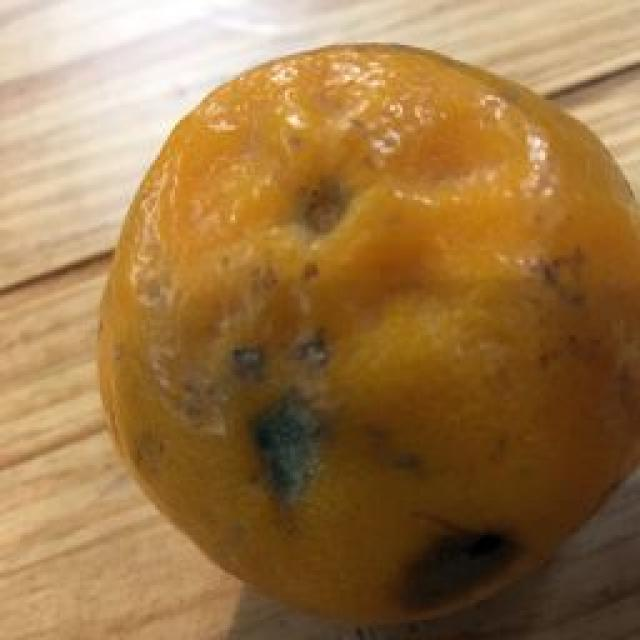Bad_Orange: (99, 44, 640, 622)
